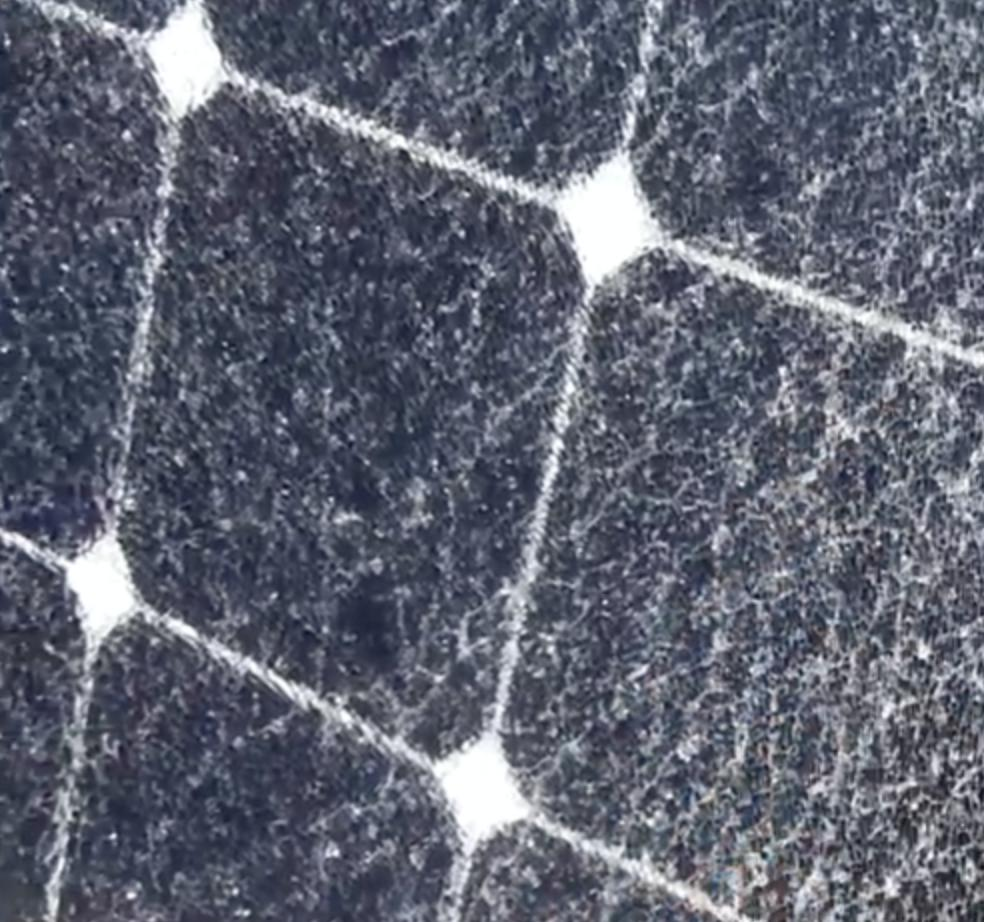Crack: (0, 6, 984, 921)
